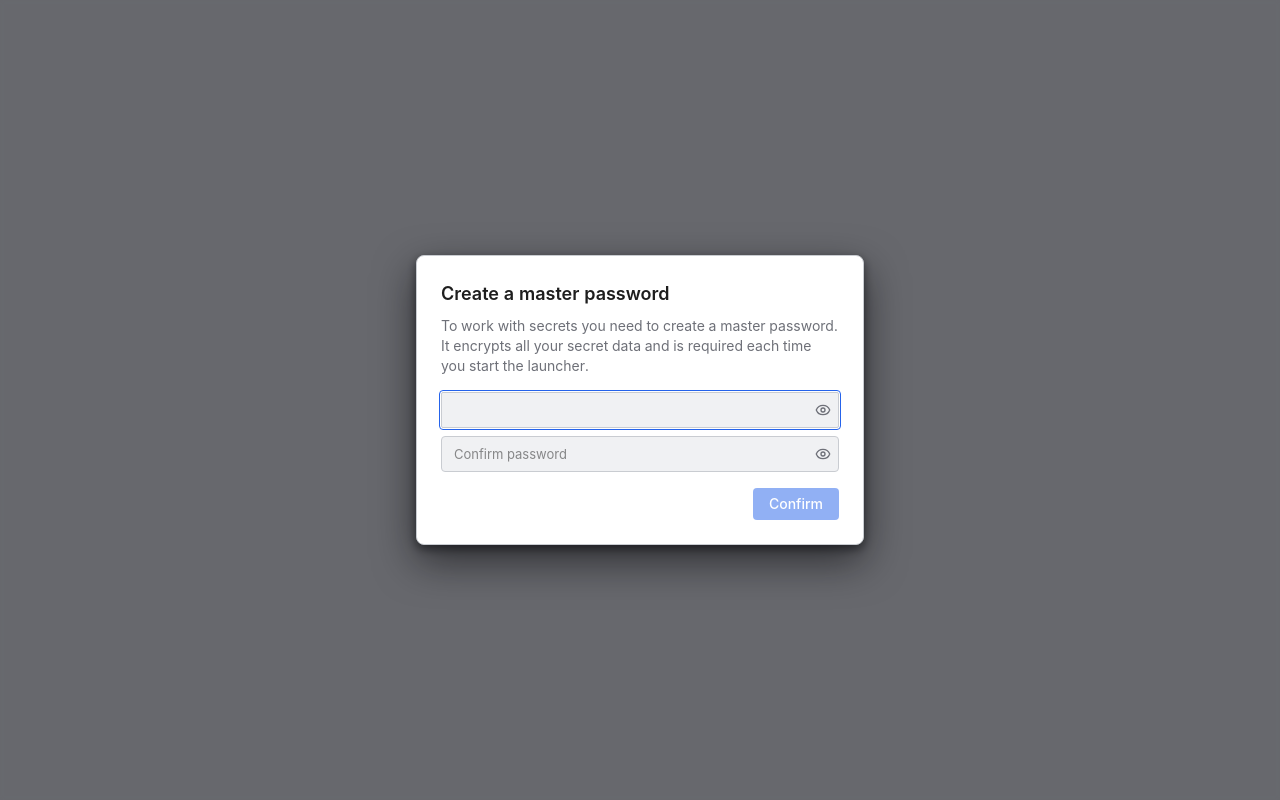
MasterPasswordDialog create mode › shows the mismatch message when the two passwords differ
Type "correct-horse" into the 1st password field.
click(640, 410); type("correct-horse")  # box [441, 392, 839, 428]
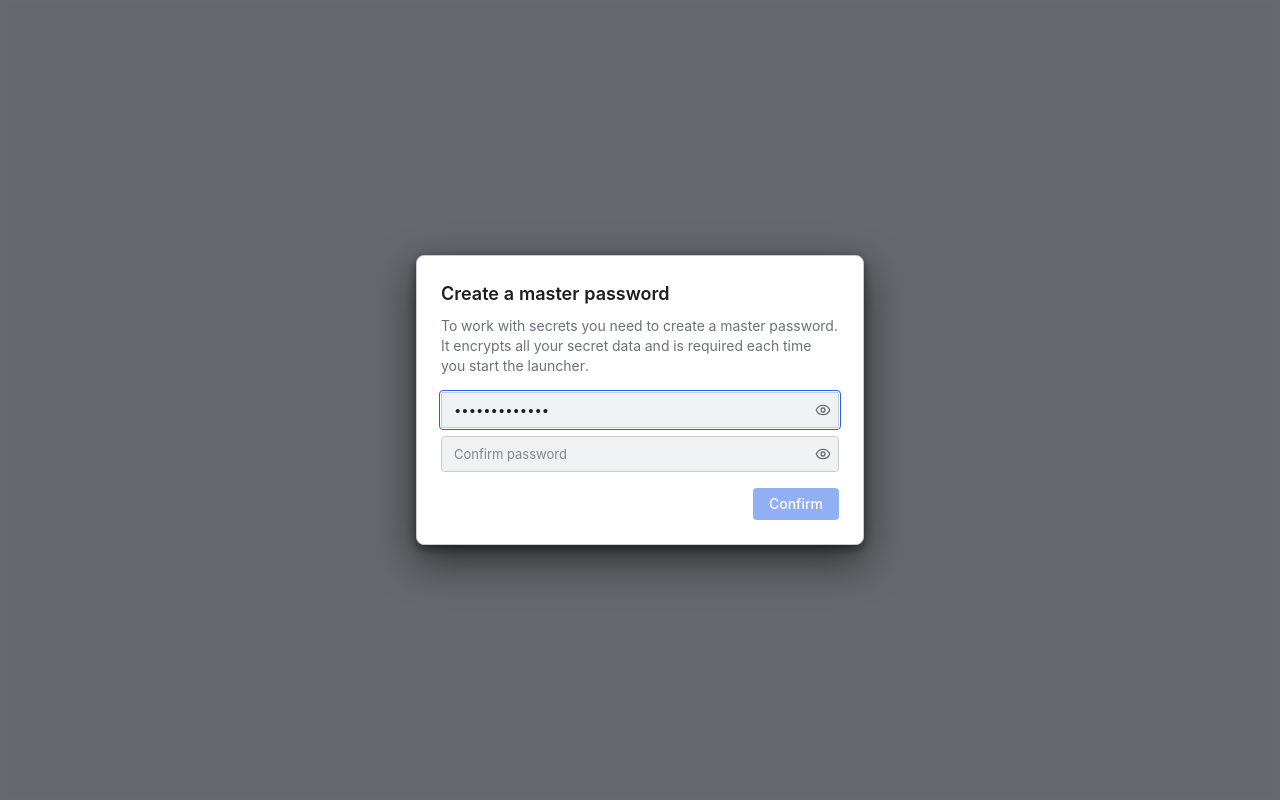
Type "battery-staple" into the password field with placeholder "Confirm password".
click(640, 454); type("battery-staple")  # box [441, 436, 839, 472]
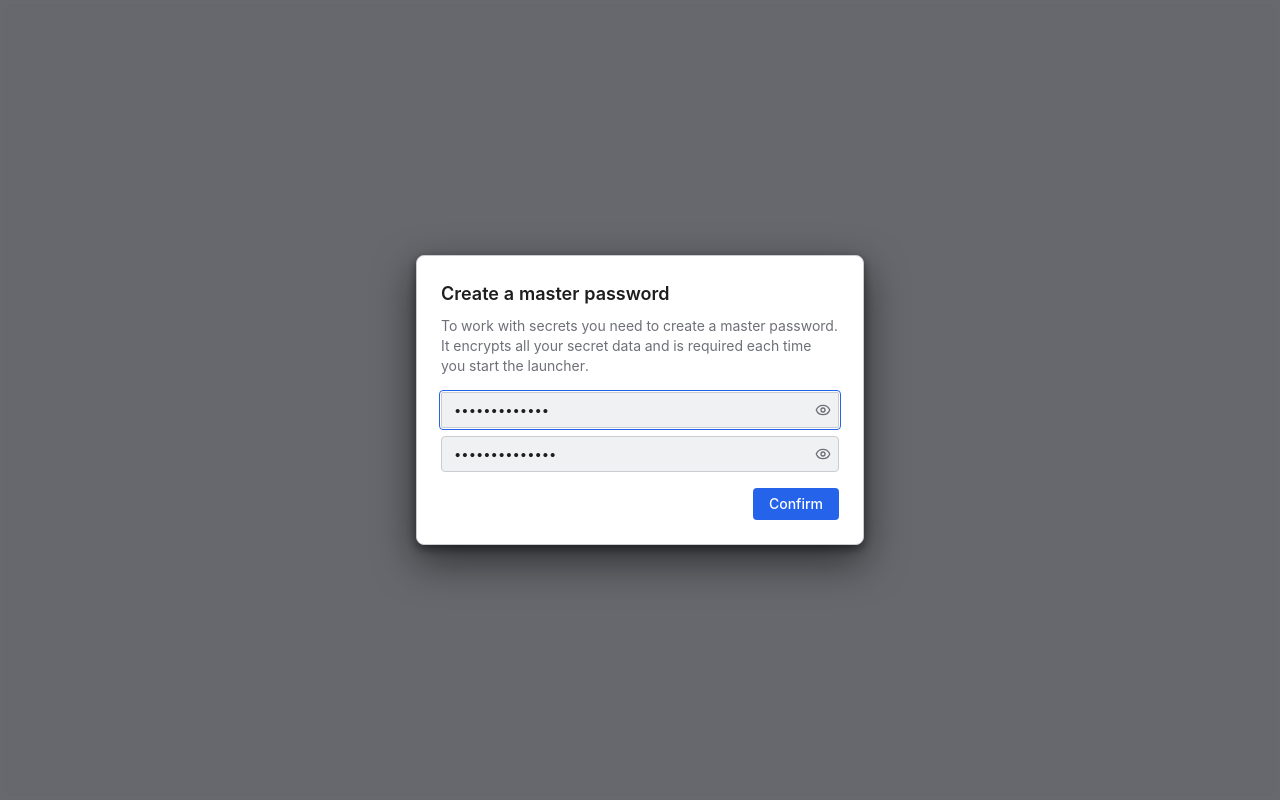
Click the button "Confirm".
click(796, 504)  # box [753, 488, 839, 520]
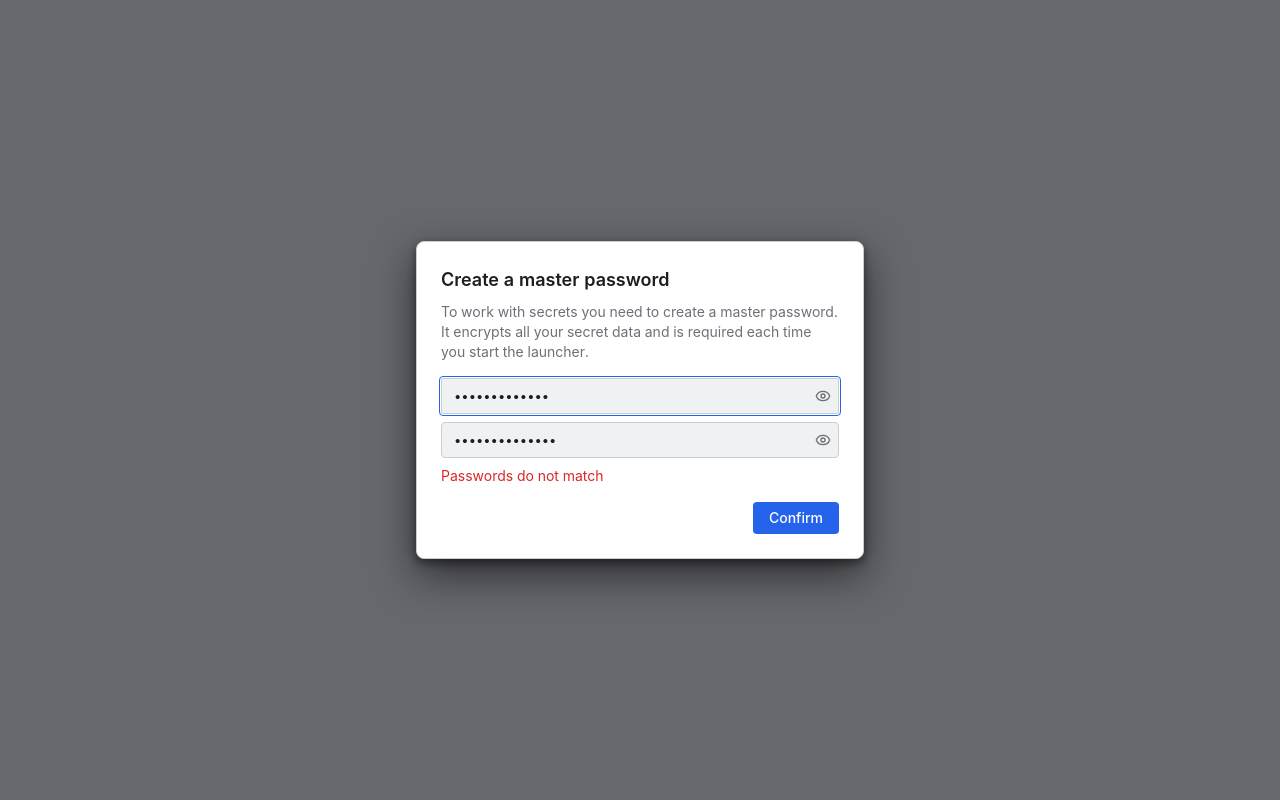
Result: the text "Passwords do not match" is shown at [441, 467, 604, 484]
